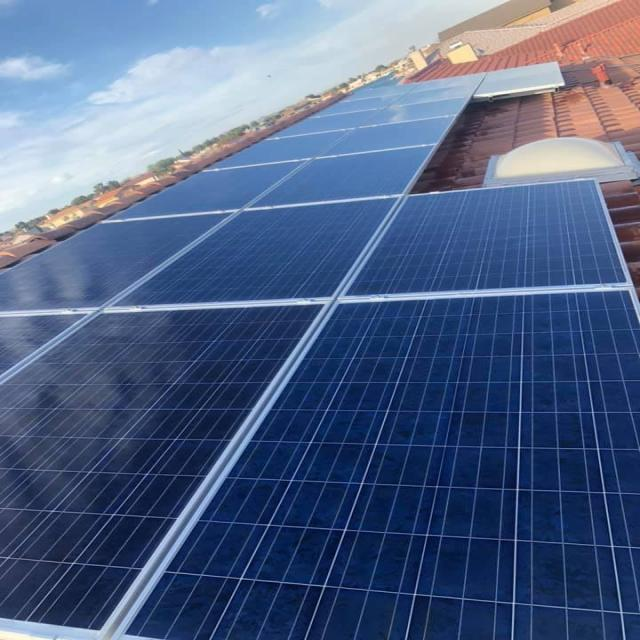clean-solar-panel: (2, 62, 637, 640)
